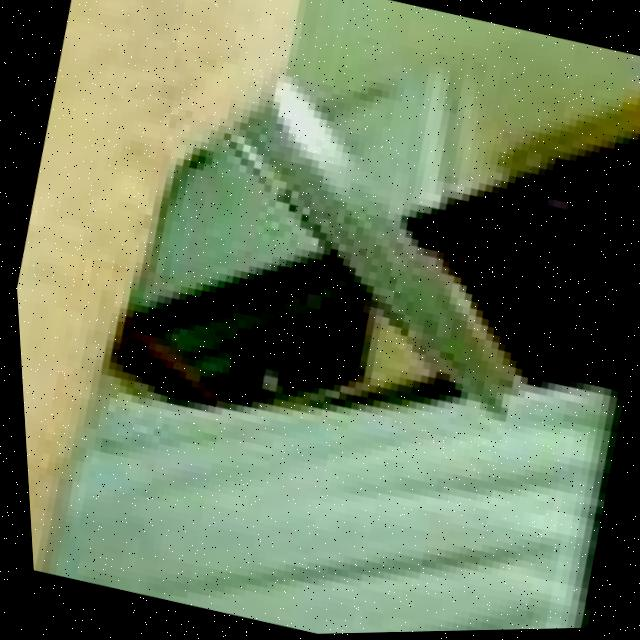knife: (163, 57, 587, 433)
